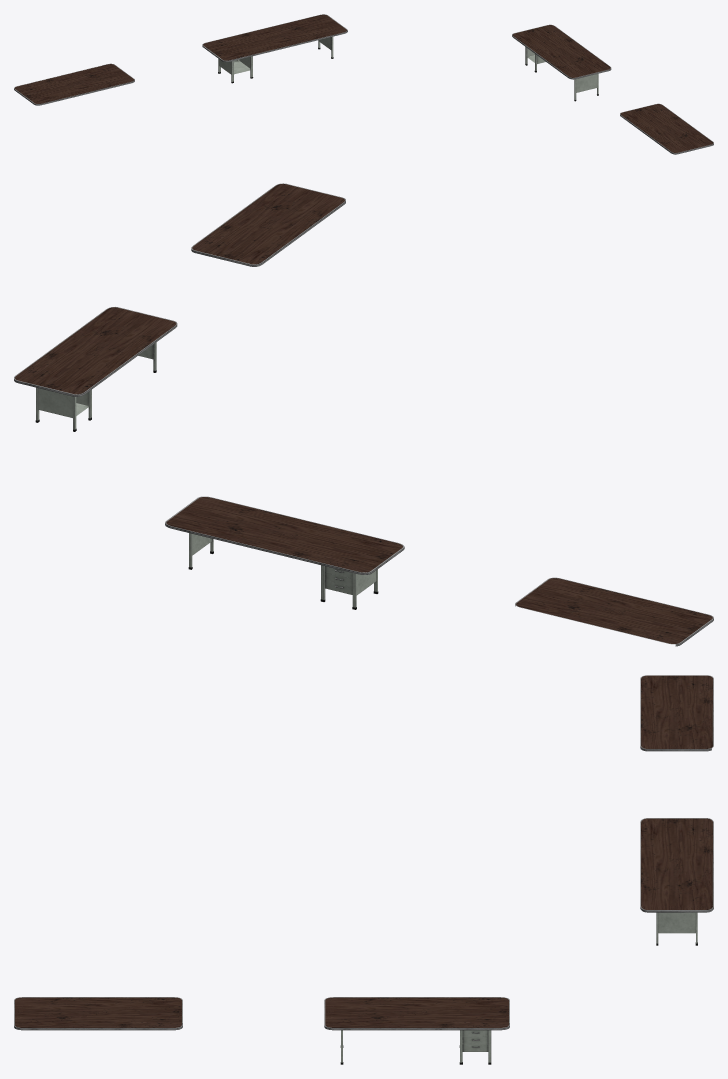
Rendered from ctoli rabochih.fbx.
3 renders of one model, top to bottom at view 1: azimuth 30°, elevation 25°; view 2: azimuth 150°, elevation 25°; view 3: azimuth 270°, elevation 25°, orthographic. The views are drawn at different scales.
Parts seen in each view (by area): view 1: polySurface1668, polySurface1677, polySurface1671, polySurface1664; view 2: polySurface1668, polySurface1677, polySurface1671, polySurface1664; view 3: polySurface1668, polySurface1677, polySurface1664, polySurface1671.
Part boxes in pixels (x1,y1,x2,y2): polySurface1668: (202,14,347,83); polySurface1677: (512,24,611,101); polySurface1671: (14,63,134,105); polySurface1664: (620,103,713,154); polySurface1668: (165,496,404,609); polySurface1677: (14,307,177,431); polySurface1671: (515,577,713,646); polySurface1664: (191,183,345,266); polySurface1668: (640,818,713,945); polySurface1677: (324,997,509,1064); polySurface1664: (14,997,182,1030); polySurface1671: (640,675,713,751).
Bounding box in the file's own units: 15.61 × 0.9796 × 13.22.
